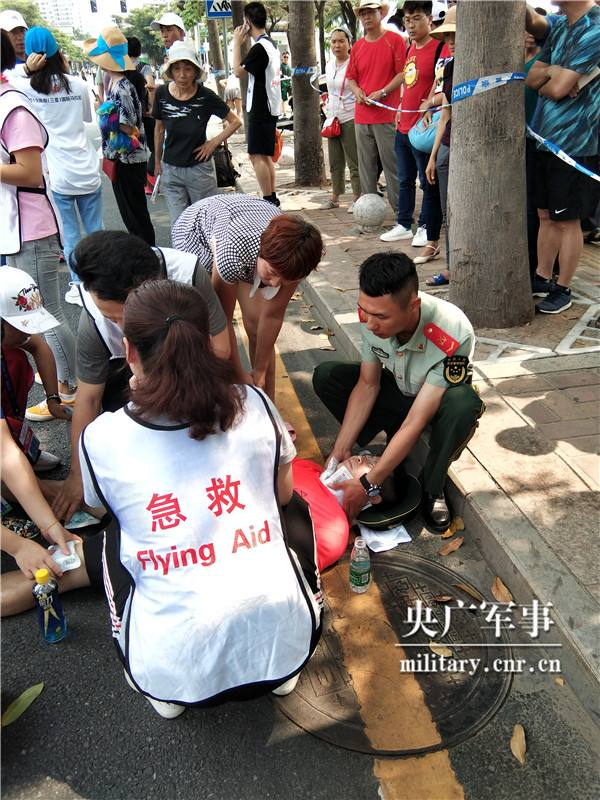10+: (1, 1, 600, 714)
down: (10, 437, 391, 609)
